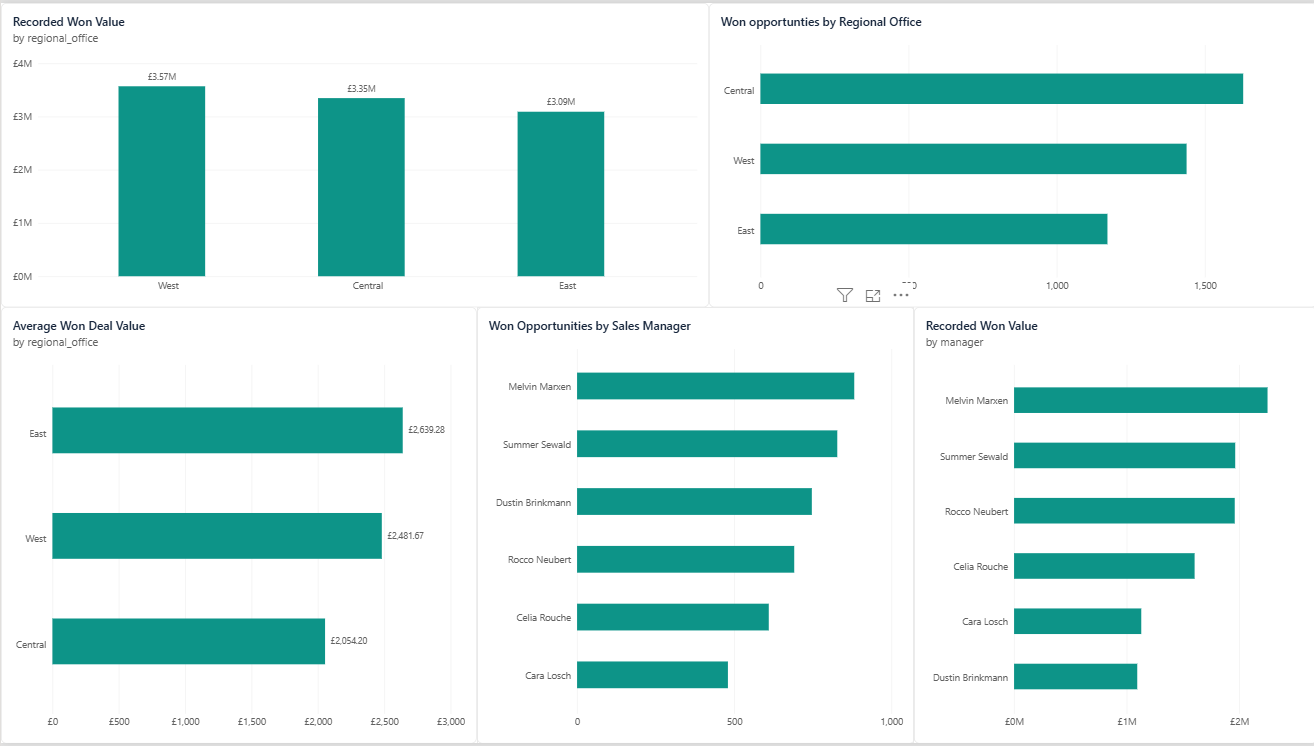

Layout of this report page (visuals, bound fields, positions):
{"tool":"powerbi","page":{"name":"Regional and Manager Performance","canvas":[1920,1080],"ordinal":4},"visuals":[{"type":"clusteredColumnChart","fields":{"Category":["sales_teams.regional_office"],"Y":["sales_pipeline.Recorded Won Value"]},"box":[0,0,1032.7,443.7],"z":0},{"type":"clusteredBarChart","title":"Won opportunties by Regional Office","fields":{"Category":["sales_teams.regional_office"],"Y":["CountNonNull(sales_pipeline.opportunity_id)"]},"box":[1032.7,0,887.3,443.7],"z":1000},{"type":"clusteredBarChart","fields":{"Category":["sales_teams.regional_office"],"Y":["sales_pipeline.Average Won Deal Value"]},"box":[0,443.7,694,637],"z":2000},{"type":"clusteredBarChart","fields":{"Category":["sales_teams.manager"],"Y":["sales_pipeline.Recorded Won Value"]},"box":[1332.5,443.7,587.5,637],"z":3000},{"type":"clusteredBarChart","title":"Won Opportunities by Sales Manager","fields":{"Category":["sales_teams.manager"],"Y":["CountNonNull(sales_pipeline.opportunity_id)"]},"box":[694,443.7,638.5,637],"z":4000}]}

Visuals, with their boxes in screenshot pixels (x1, y1, x2, y2), scaled from the page's 1920x1080 canvas onto the 1314x746 screenshot:
clusteredColumnChart - sales_teams.regional_office x sales_pipeline.Recorded Won Value: (x1=0, y1=0, x2=707, y2=306)
"Won opportunties by Regional Office" clusteredBarChart: (x1=707, y1=0, x2=1313, y2=306)
clusteredBarChart - sales_teams.regional_office x sales_pipeline.Average Won Deal Value: (x1=0, y1=306, x2=475, y2=745)
clusteredBarChart - sales_teams.manager x sales_pipeline.Recorded Won Value: (x1=912, y1=306, x2=1313, y2=745)
"Won Opportunities by Sales Manager" clusteredBarChart: (x1=475, y1=306, x2=912, y2=745)
